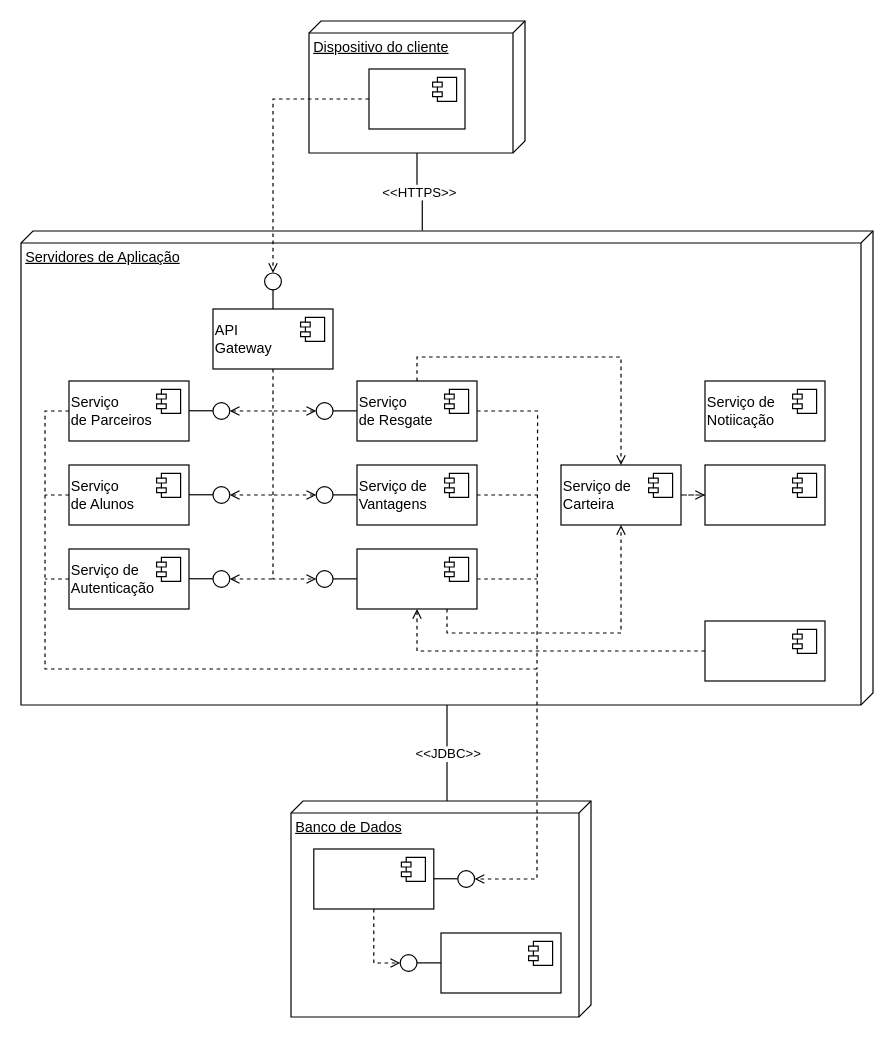
This 894x1038 diagram has some shape labels left out. Here are the shapes that lost their labels. From the top down, the centre of each, then its label:
At (x=416, y=98): "Web UI".
At (x=764, y=494): "Serviço de Transação".
At (x=416, y=578): "Serviço de Professores".
At (x=764, y=650): "Agendador".
At (x=373, y=878): "Persistência".
At (x=500, y=962): "SGBD".
